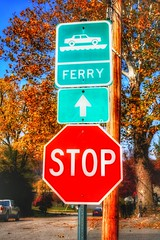StopSign: (41, 124, 123, 204)
